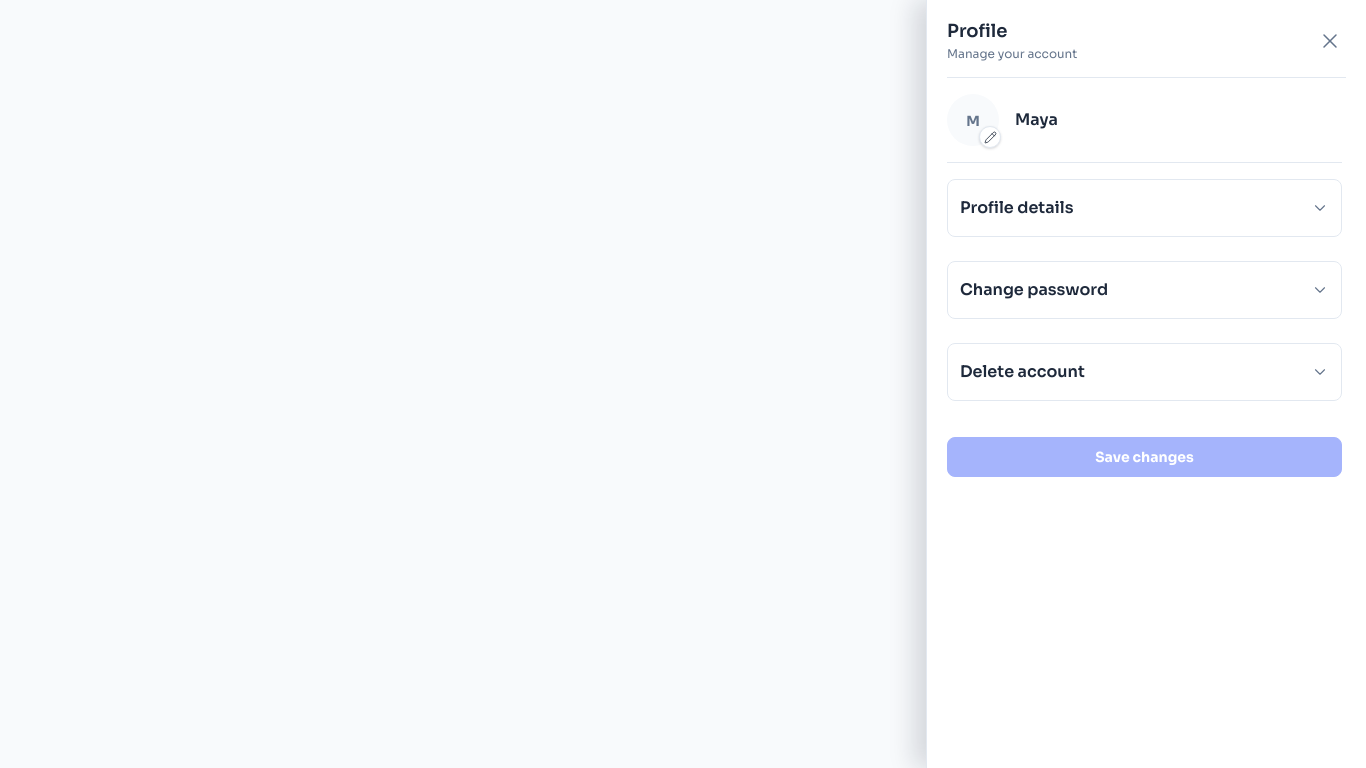
Test: ProfileDrawer › keeps save disabled when user data loads after drawer opens
Step 1. Click the button "Profile details" → (1017, 208), box x1=948 y1=180 x2=1341 y2=236
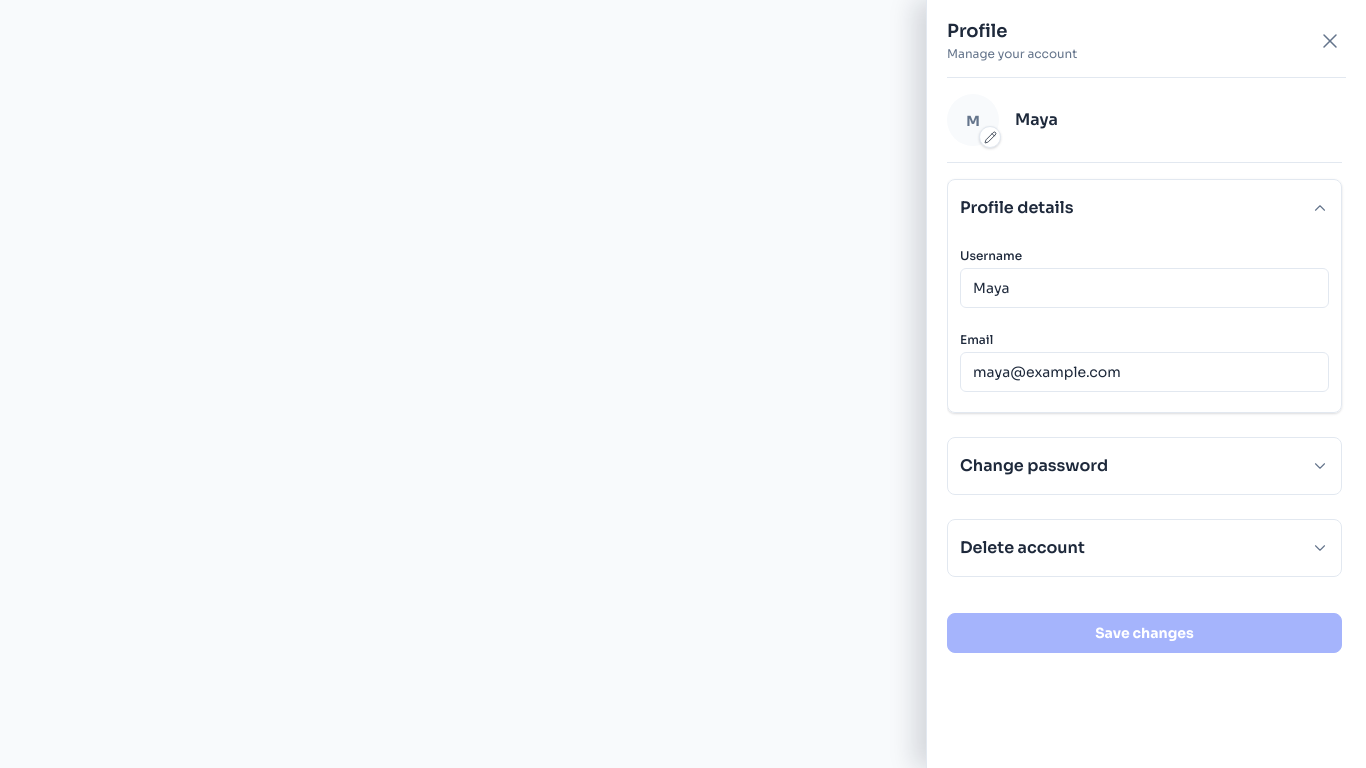
Expected: the button "Save changes" is disabled, x1=947 y1=613 x2=1342 y2=653
Expected: the field with placeholder "Your username" below "Username" holds "Maya", x1=973 y1=269 x2=1280 y2=307
Expected: the field with placeholder "Email address" below "Email" holds "maya@example.com", x1=973 y1=353 x2=1280 y2=391
